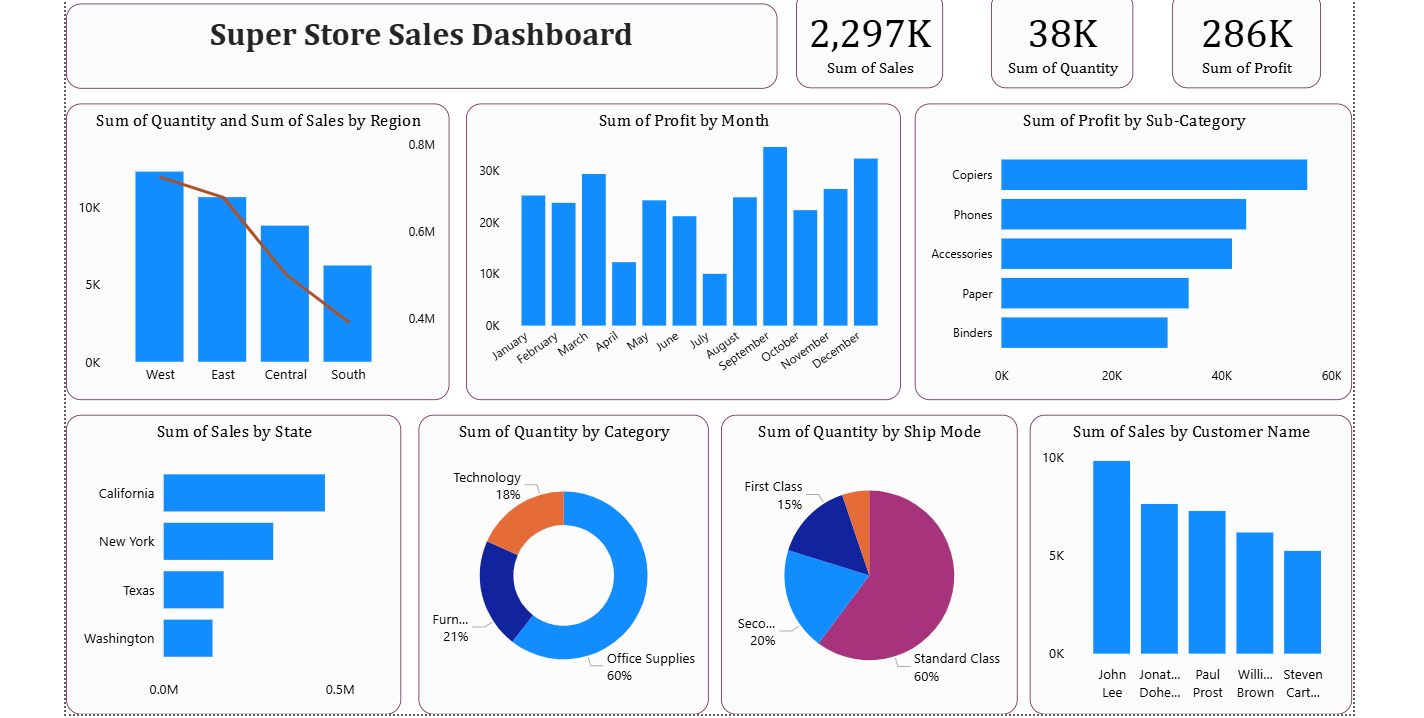

What the dashboard file says about the page in this screenshot:
{"tool":"powerbi","page":{"name":"Page 1","canvas":[1280,720],"ordinal":0},"visuals":[{"type":"card","fields":{"Values":["Sum(Sample - Superstore.Sales)"]},"box":[726.5,0,146.8,97],"z":0},{"type":"card","fields":{"Values":["Sum(Sample - Superstore.Quantity)"]},"box":[920.5,0,141.8,97],"z":1000},{"type":"card","fields":{"Values":["Sum(Sample - Superstore.Profit)"]},"box":[1100.9,0,148,97],"z":2000},{"type":"lineStackedColumnComboChart","fields":{"Category":["Sample - Superstore.Region"],"Y2":["Sum(Sample - Superstore.Sales)"],"Y":["Sum(Sample - Superstore.Quantity)"]},"box":[0,112,381.9,294.8],"z":3000},{"type":"barChart","fields":{"Category":["Sample - Superstore.State"],"Y":["Sum(Sample - Superstore.Sales)"]},"box":[0,421.4,333.4,298.6],"z":3001},{"type":"columnChart","fields":{"Category":["Sample - Superstore.Order Date.Variation.Date Hierarchy.Month"],"Y":["Sum(Sample - Superstore.Profit)"]},"box":[398.1,112,432.9,294.8],"z":3002},{"type":"donutChart","fields":{"Y":["Sum(Sample - Superstore.Quantity)"],"Category":["Sample - Superstore.Category"]},"box":[350.8,421.4,288.6,298.6],"z":3003},{"type":"barChart","fields":{"Y":["Sum(Sample - Superstore.Profit)"],"Category":["Sample - Superstore.Sub-Category"]},"box":[844.6,112,435.4,294.8],"z":3004},{"type":"pieChart","fields":{"Y":["Sum(Sample - Superstore.Quantity)"],"Category":["Sample - Superstore.Ship Mode"]},"box":[651.8,421.4,294.8,298.6],"z":3005},{"type":"columnChart","fields":{"Y":["Sum(Sample - Superstore.Sales)"],"Category":["Sample - Superstore.Customer Name"]},"box":[959.1,421.4,320.9,298.6],"z":3006},{"type":"textbox","box":[0,12.4,707.8,84.6],"z":3007}]}

Visuals, with their boxes on the page's 1280x720 design canvas (x1, y1, x2, y2). These are canvas units, not pixel positions in the 1424x718 screenshot, which may show the page scaled, cropped or inside an application window:
card - Sum(Sample - Superstore.Sales): bbox=(726, 0, 873, 97)
card - Sum(Sample - Superstore.Quantity): bbox=(920, 0, 1062, 97)
card - Sum(Sample - Superstore.Profit): bbox=(1101, 0, 1249, 97)
lineStackedColumnComboChart - Sample - Superstore.Region x Sum(Sample - Superstore.Sales): bbox=(0, 112, 382, 407)
barChart - Sample - Superstore.State x Sum(Sample - Superstore.Sales): bbox=(0, 421, 333, 720)
columnChart - Sample - Superstore.Order Date.Variation.Date Hierarchy.Month x Sum(Sample - Superstore.Profit): bbox=(398, 112, 831, 407)
donutChart - Sum(Sample - Superstore.Quantity) x Sample - Superstore.Category: bbox=(351, 421, 639, 720)
barChart - Sum(Sample - Superstore.Profit) x Sample - Superstore.Sub-Category: bbox=(845, 112, 1280, 407)
pieChart - Sum(Sample - Superstore.Quantity) x Sample - Superstore.Ship Mode: bbox=(652, 421, 947, 720)
columnChart - Sum(Sample - Superstore.Sales) x Sample - Superstore.Customer Name: bbox=(959, 421, 1280, 720)
textbox: bbox=(0, 12, 708, 97)
